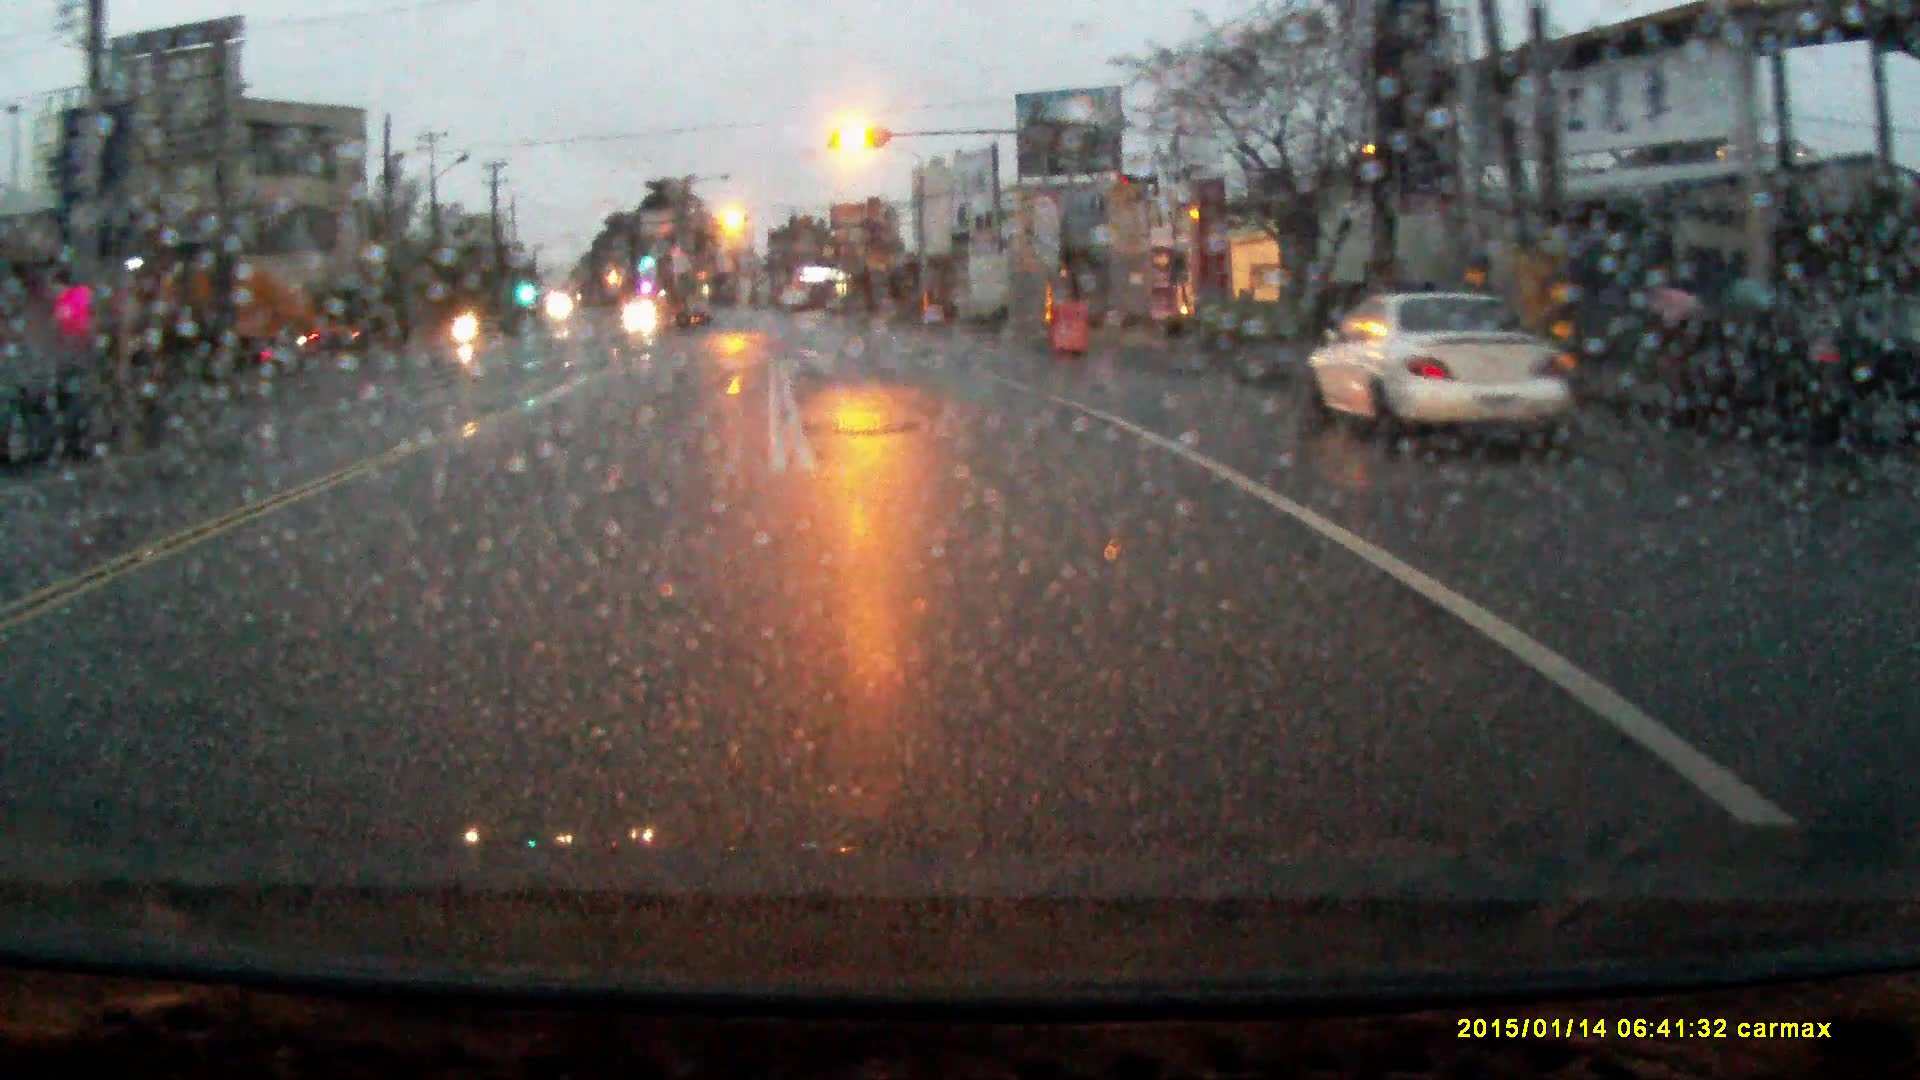rider: (452, 292, 482, 346)
vehicle: (1307, 295, 1592, 453), (137, 259, 372, 358), (2, 342, 140, 461), (622, 301, 657, 334)
